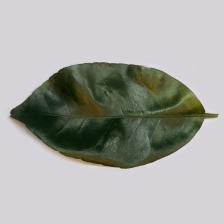healthy: (21, 63, 190, 159)
